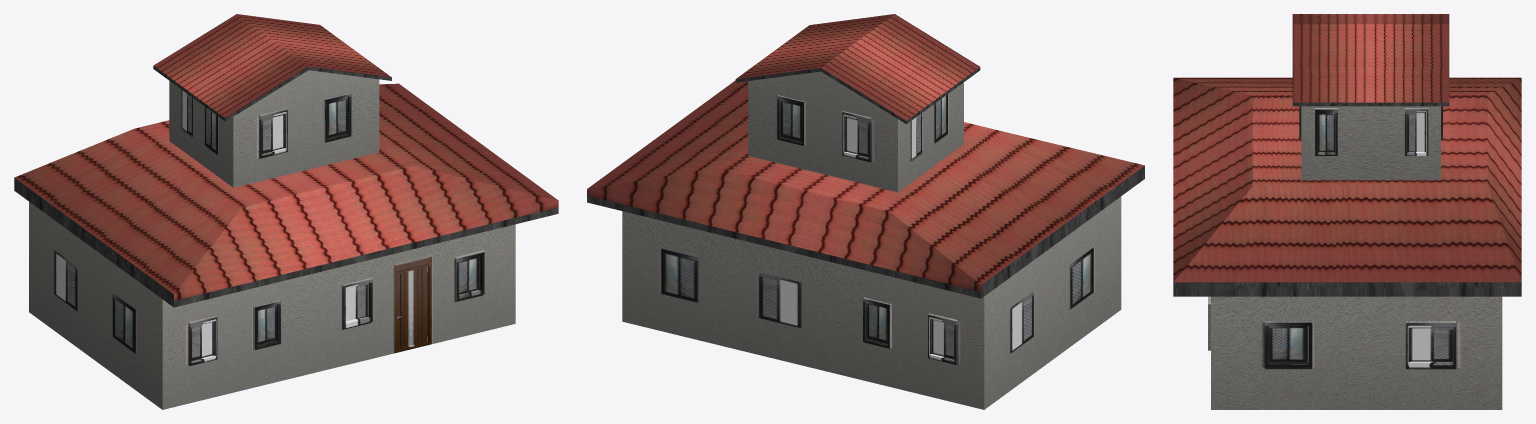
Rendered from BAT2_SETC_HOUSE14.fbx.
3 views of the same model, side by side, from view 1: azimuth 30°, elevation 25°; view 2: azimuth 150°, elevation 25°; view 3: azimuth 270°, elevation 25° (orthographic). The views are drawn at different scales.
Parts seen in each view (by area): view 1: __014; view 2: __014; view 3: __014.
Part boxes in pixels (<box>): __014: <box>14,14,558,409</box>; __014: <box>587,14,1144,409</box>; __014: <box>1173,14,1521,409</box>.
Bounding box in the file's own units: 62.2 × 41.9 × 44.72.
1 material, 1 textured.
